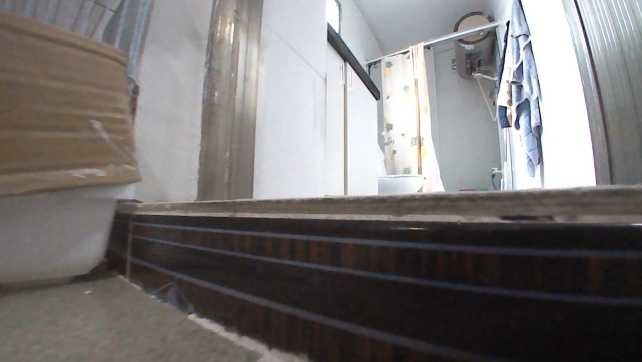door_sill: (118, 195, 642, 360)
toilet: (377, 167, 425, 196)
